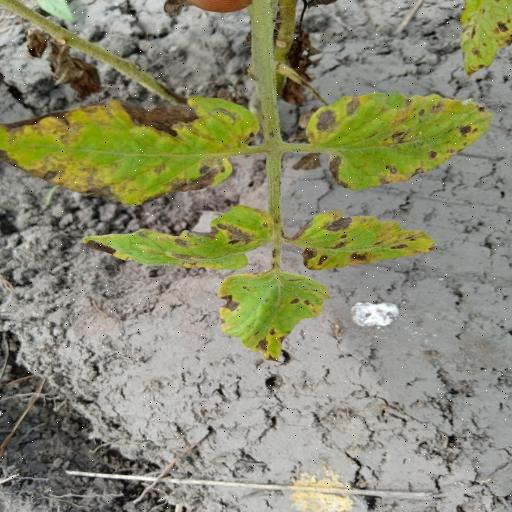Tomato_Brown_Spots: (0, 90, 254, 205), (299, 85, 492, 193), (86, 199, 271, 276), (218, 266, 330, 363), (293, 208, 438, 274)
